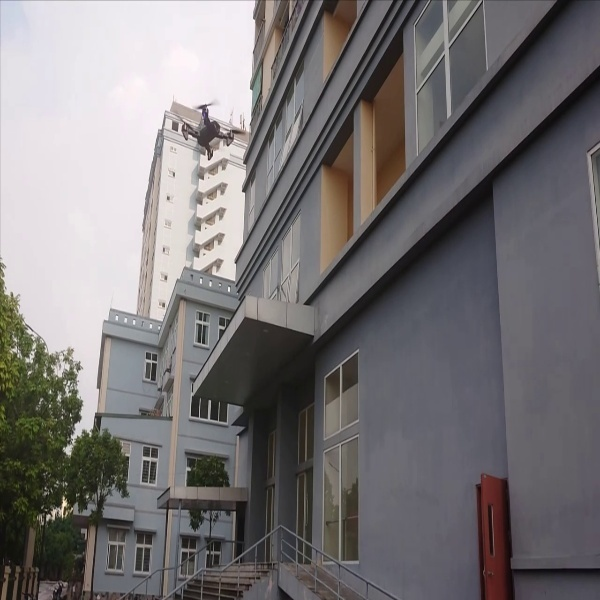drone: (169, 94, 238, 164)
